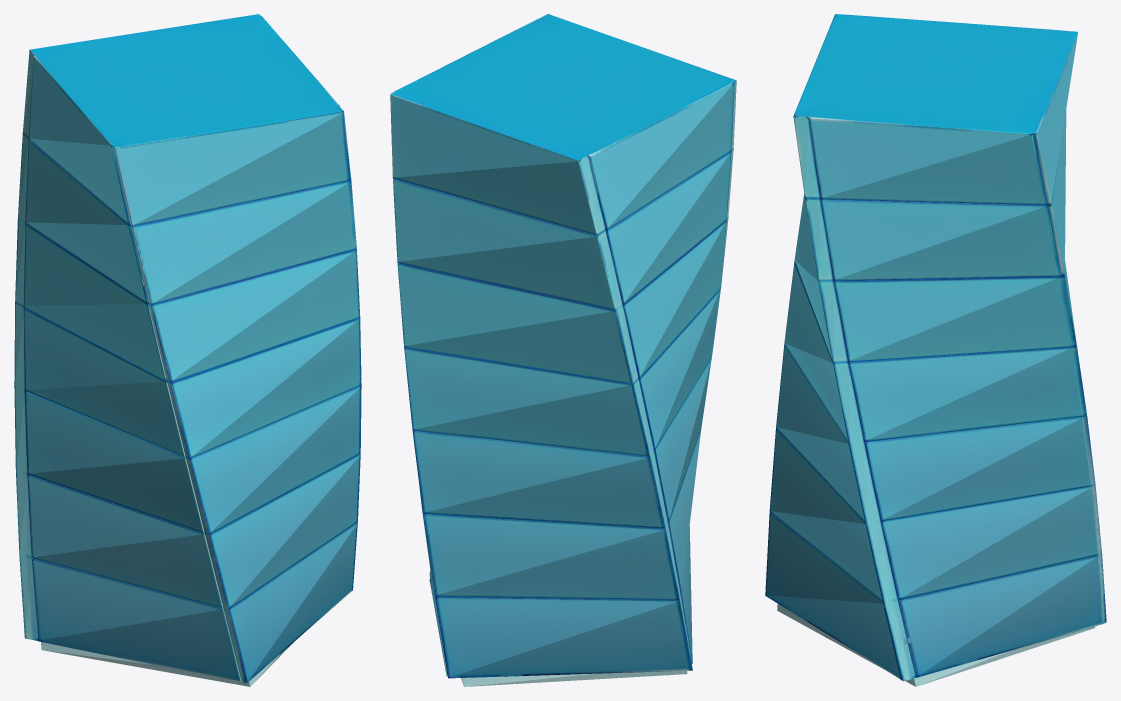
File: edited_mesh.glb
3 views of the same model, side by side, from view 1: azimuth 30°, elevation 25°; view 2: azimuth 150°, elevation 25°; view 3: azimuth 270°, elevation 25° (orthographic).
Visible parts, largest first — view 1: normalized_model.obj; view 2: normalized_model.obj; view 3: normalized_model.obj.
Boxes of the visible parts, bbox=[...] form: normalized_model.obj: bbox=[14, 14, 361, 686]; normalized_model.obj: bbox=[390, 14, 736, 686]; normalized_model.obj: bbox=[765, 14, 1106, 686].
Bounding box in the file's own units: 0.8834 × 1.56 × 0.8848.
Materials: 1 (1 with a texture image).
